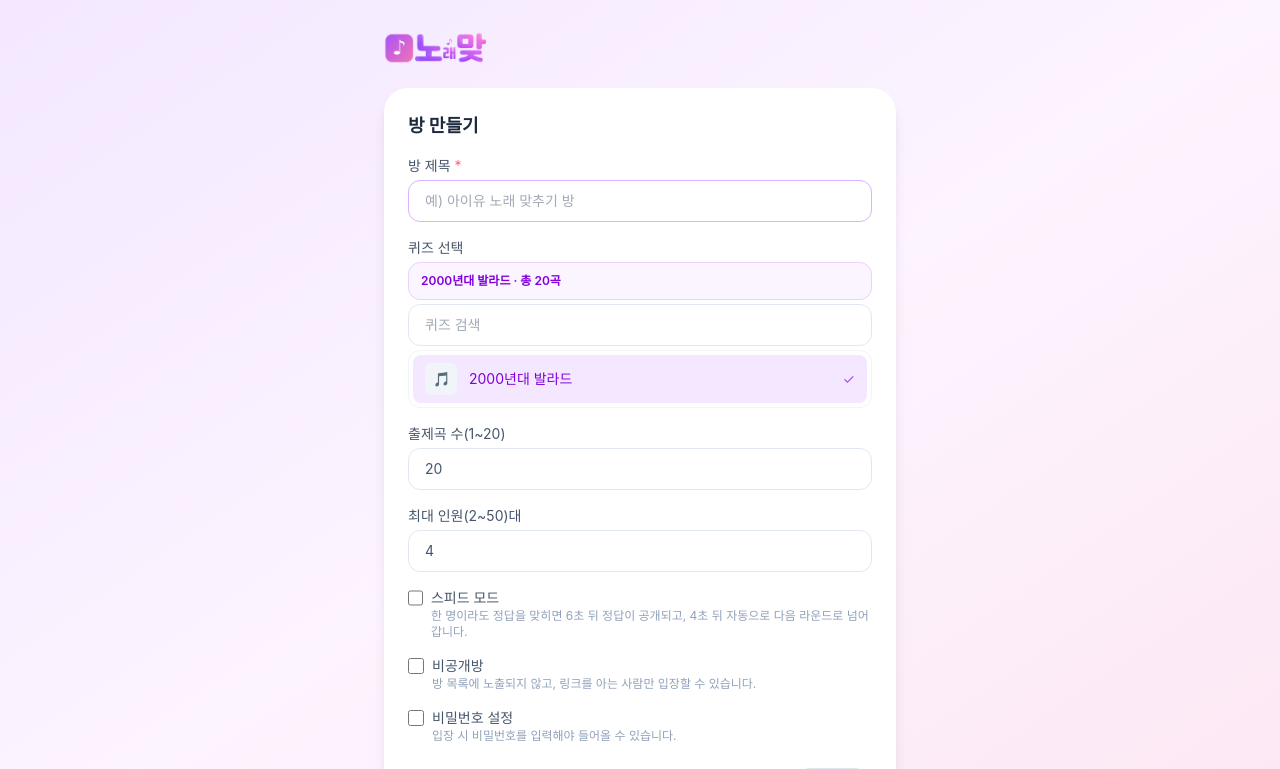
Test: CreateRoomPage › 비밀번호 설정을 체크하면 최소 길이 이상 입력해야 만들기 버튼이 활성화된다
Expected: the text "2000년대 발라드 · 총 20곡" is shown, [421, 273, 561, 288]
Type "내 방" into the field with placeholder "예) 아이유 노래 맞추기 방".
click(640, 201); type("내 방")  # box [408, 180, 872, 222]
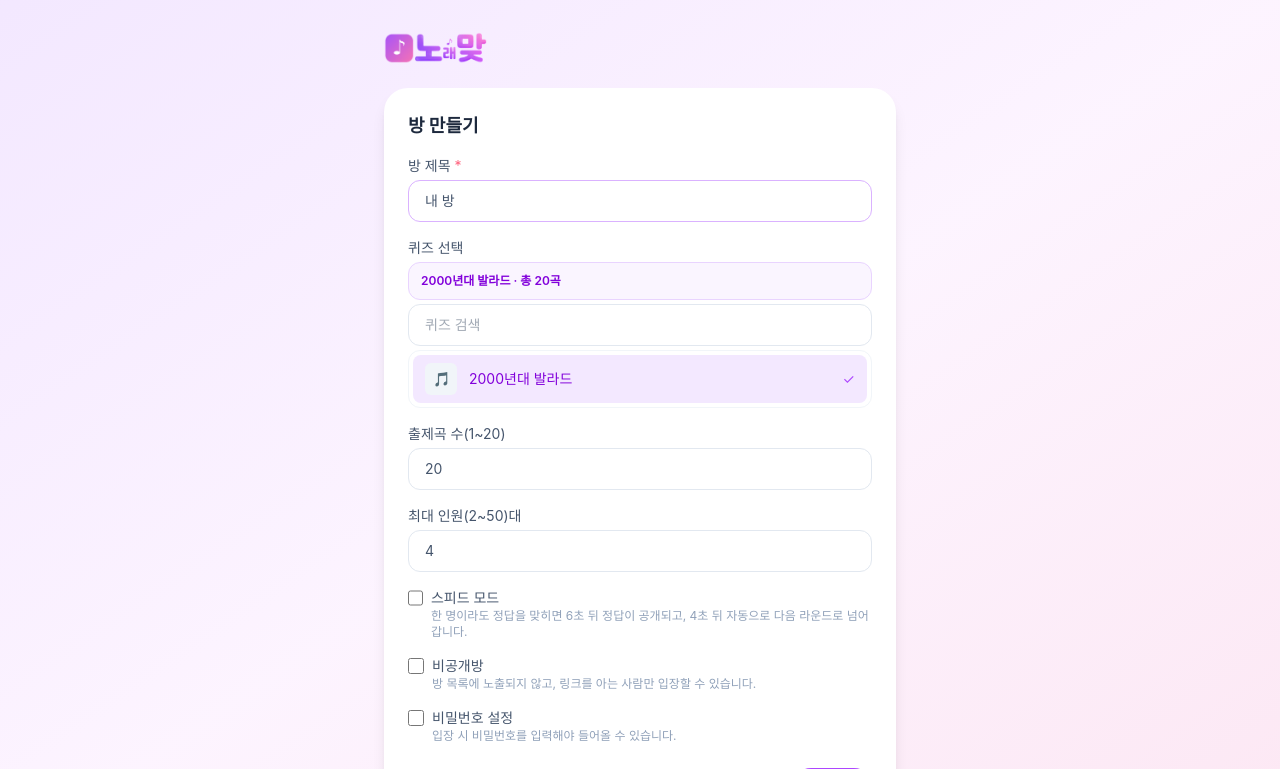
Click the checkbox labelled "비밀번호 설정 입장 시 비밀번호를 입력해야 들어올 수 있습니다.".
click(416, 718)  # box [408, 710, 424, 726]
(page scrolled)
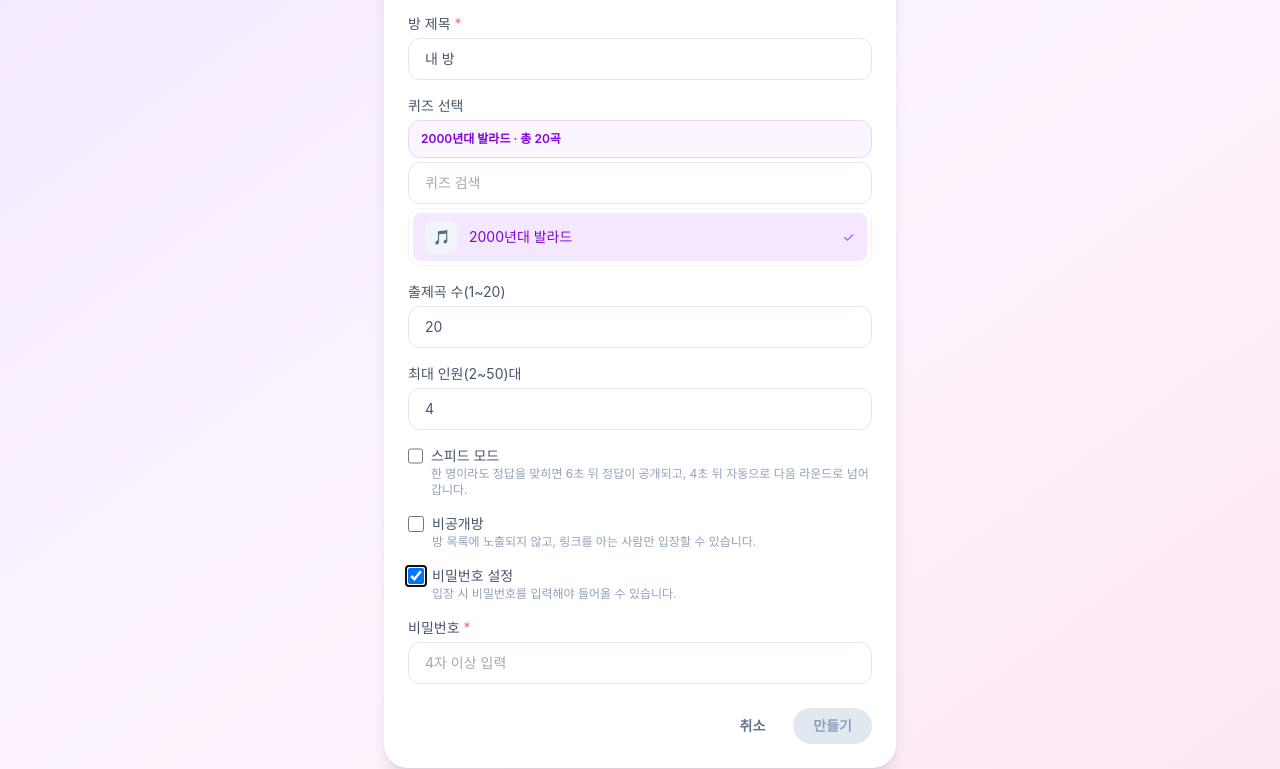
Now the button "만들기" is disabled, box [793, 708, 872, 744]
Type "123" into the field with placeholder "4자 이상 입력".
click(640, 663); type("123")  # box [408, 642, 872, 684]
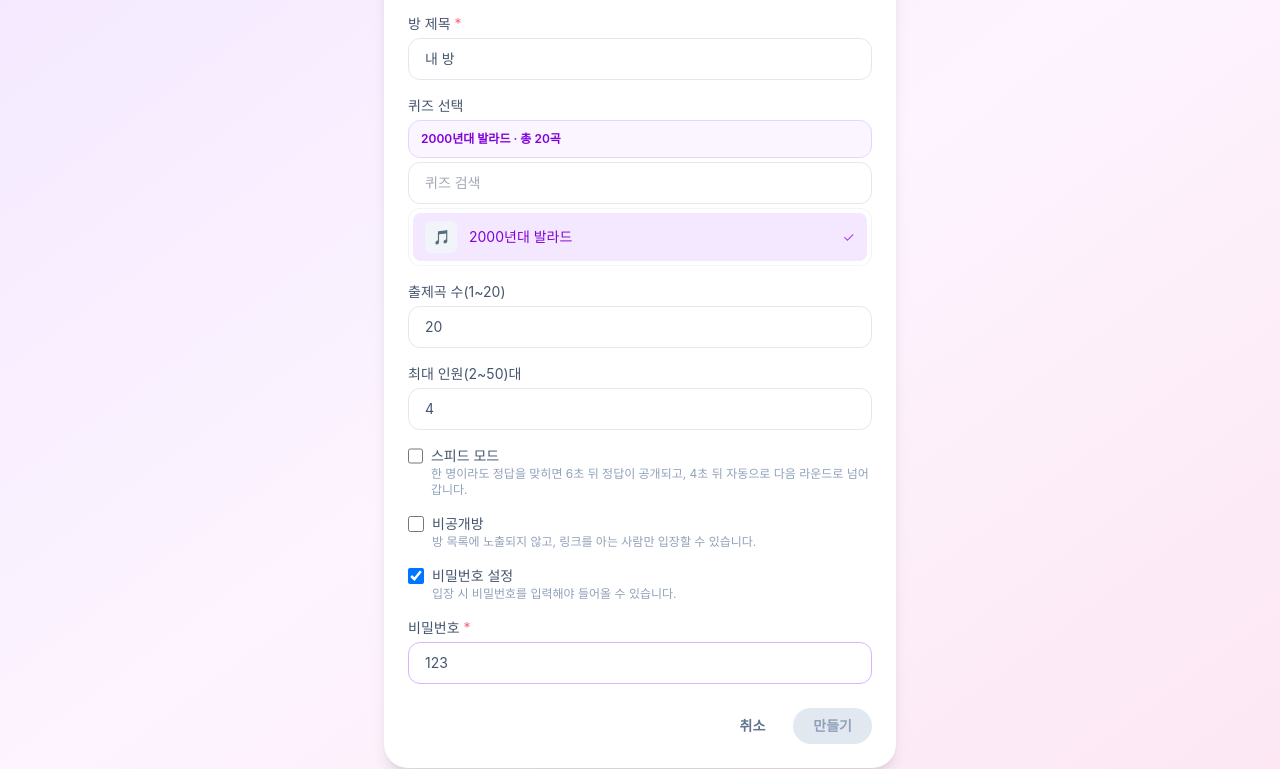
Now the button "만들기" is disabled, box [793, 708, 872, 744]
Type "4" into the field with placeholder "4자 이상 입력".
click(640, 663); type("4")  # box [408, 642, 872, 684]
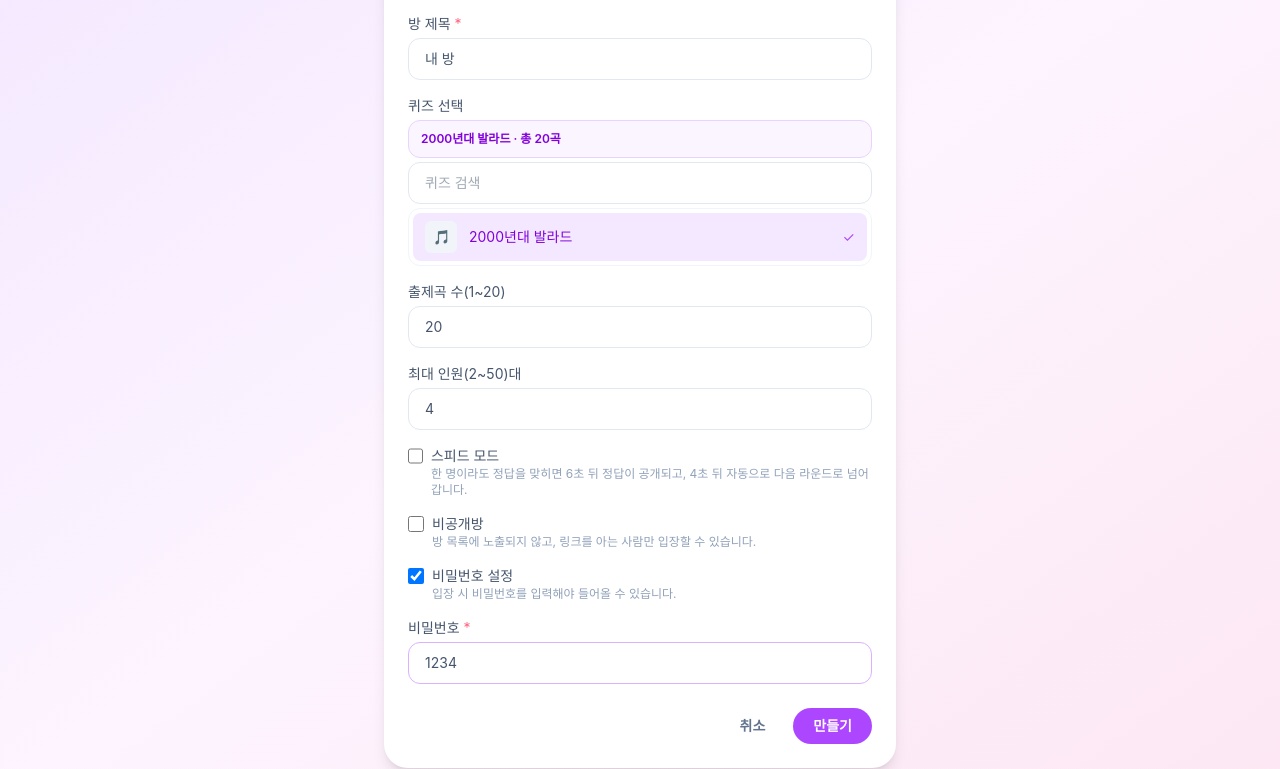
Now the button "만들기" is enabled, box [793, 708, 872, 744]
